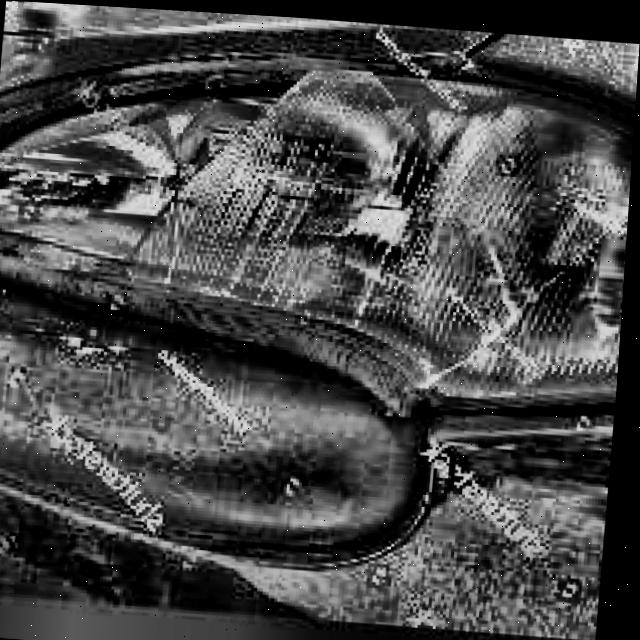head_lamp: (0, 40, 624, 342)
